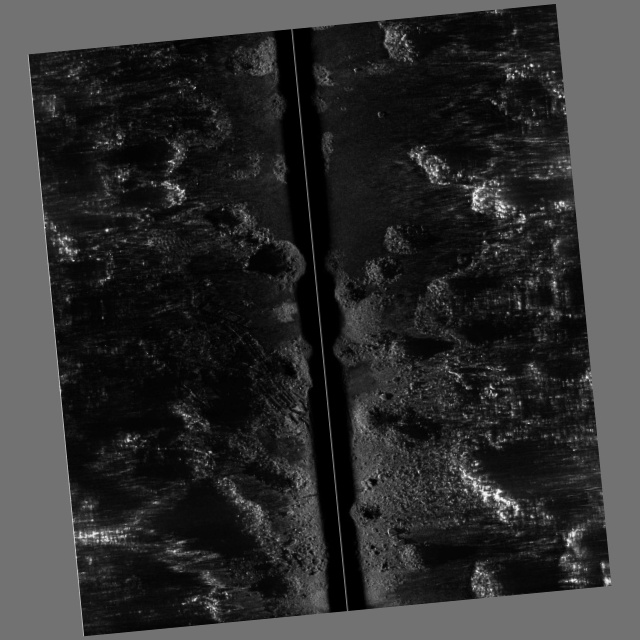Shipwreck: (202, 293, 312, 446)
